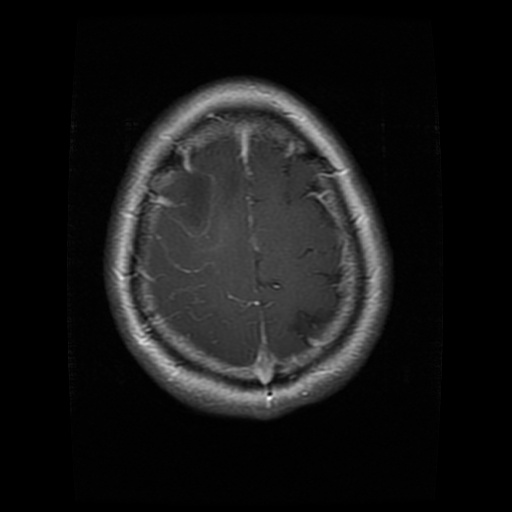glioma: (159, 167, 216, 238)
